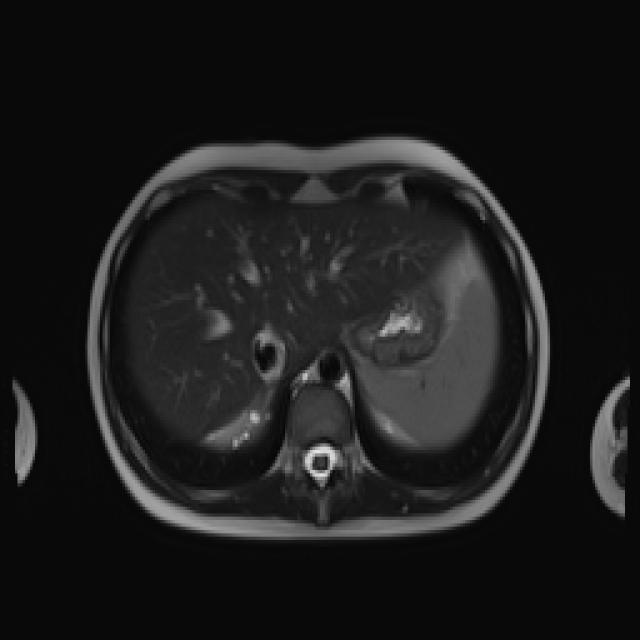sag: (198, 400, 272, 454)
sol: (367, 402, 422, 445)
